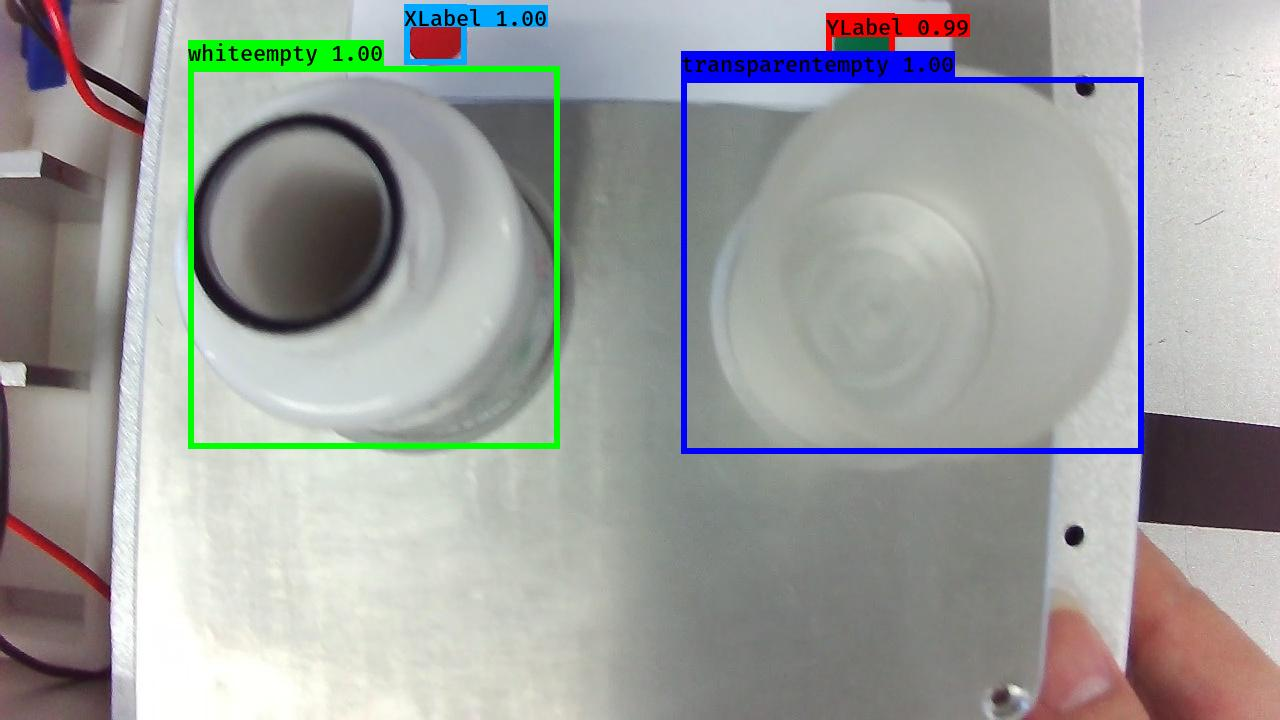XLabel: (401, 5, 470, 74)
YLabel: (828, 21, 896, 84)
transparentempty: (705, 63, 1141, 481)
whiteempty: (151, 76, 577, 462)
